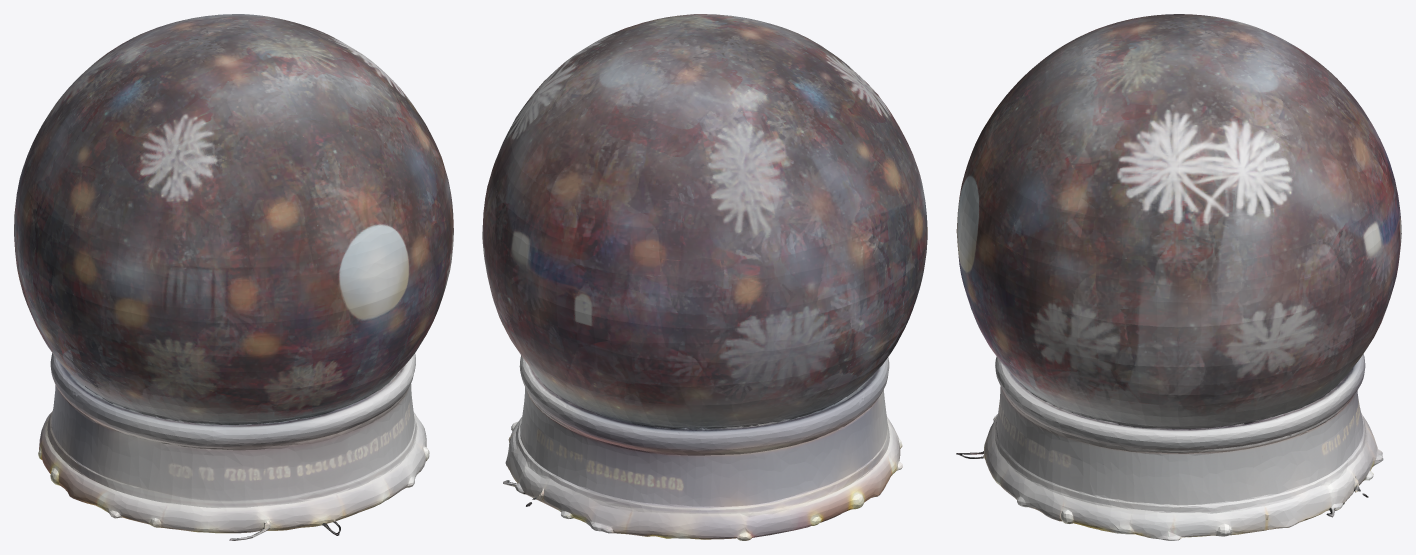
File: esfera-nieve.glb
The picture shows the model from 3 angles, left to right: view 1: azimuth 30°, elevation 25°; view 2: azimuth 150°, elevation 25°; view 3: azimuth 270°, elevation 25°; orthographic projection.
Parts seen in each view (by area): view 1: world; view 2: world; view 3: world.
Boxes of the visible parts, <box> form: world: <box>14,14,453,540</box>; world: <box>482,14,927,540</box>; world: <box>956,14,1401,540</box>.
Size of the model in its own units: 0.9516 by 0.9957 by 0.9525.
Materials: 1 (1 with a texture image).
